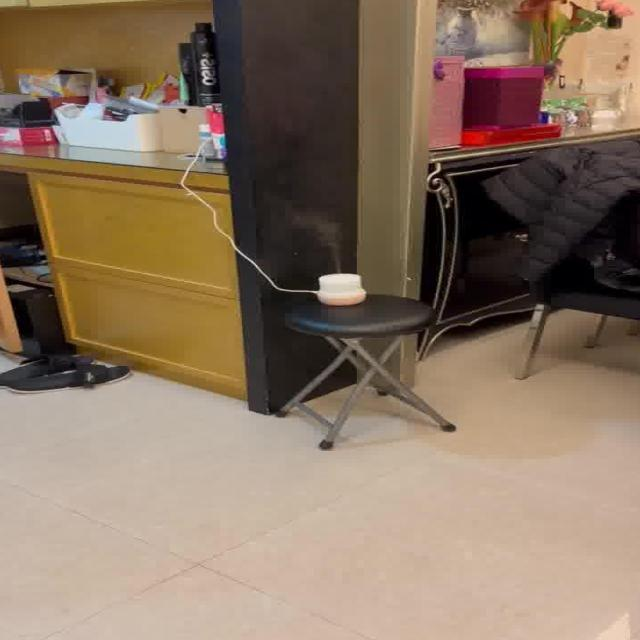fire: (282, 200, 345, 269)
